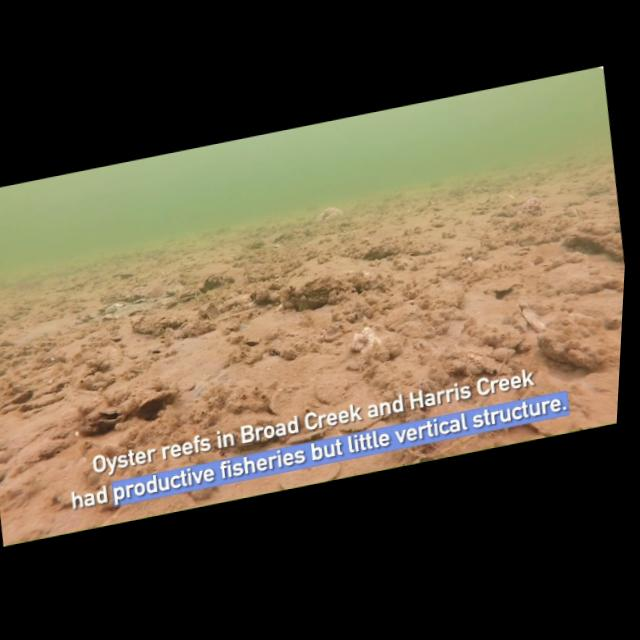Oyster-Indeterminate: (297, 274, 347, 309), (279, 462, 341, 489), (129, 387, 178, 420), (225, 380, 270, 413), (82, 338, 128, 367), (131, 314, 187, 336), (315, 372, 349, 404), (538, 328, 570, 361), (472, 354, 514, 375), (485, 275, 522, 298), (19, 393, 64, 411), (340, 417, 387, 434), (285, 428, 331, 445), (367, 360, 398, 385), (501, 323, 526, 351), (201, 273, 235, 292), (401, 402, 433, 422), (518, 299, 554, 316), (110, 289, 148, 303), (523, 308, 545, 331), (558, 311, 592, 325), (365, 343, 390, 362), (461, 343, 492, 358), (444, 358, 467, 375), (174, 287, 200, 302), (317, 206, 343, 221), (492, 346, 516, 362), (11, 389, 34, 404), (384, 339, 402, 358), (363, 361, 380, 378), (254, 287, 270, 304), (279, 345, 298, 359), (409, 389, 423, 408), (320, 323, 337, 337), (464, 362, 482, 375), (206, 302, 220, 318), (246, 350, 263, 363), (273, 232, 293, 243), (247, 239, 265, 249), (197, 305, 208, 319), (112, 272, 133, 278), (244, 338, 259, 346), (320, 328, 328, 337)
Oyster-Open: (92, 405, 124, 425), (563, 206, 584, 217), (180, 321, 195, 333), (393, 259, 407, 269), (608, 189, 616, 195)
